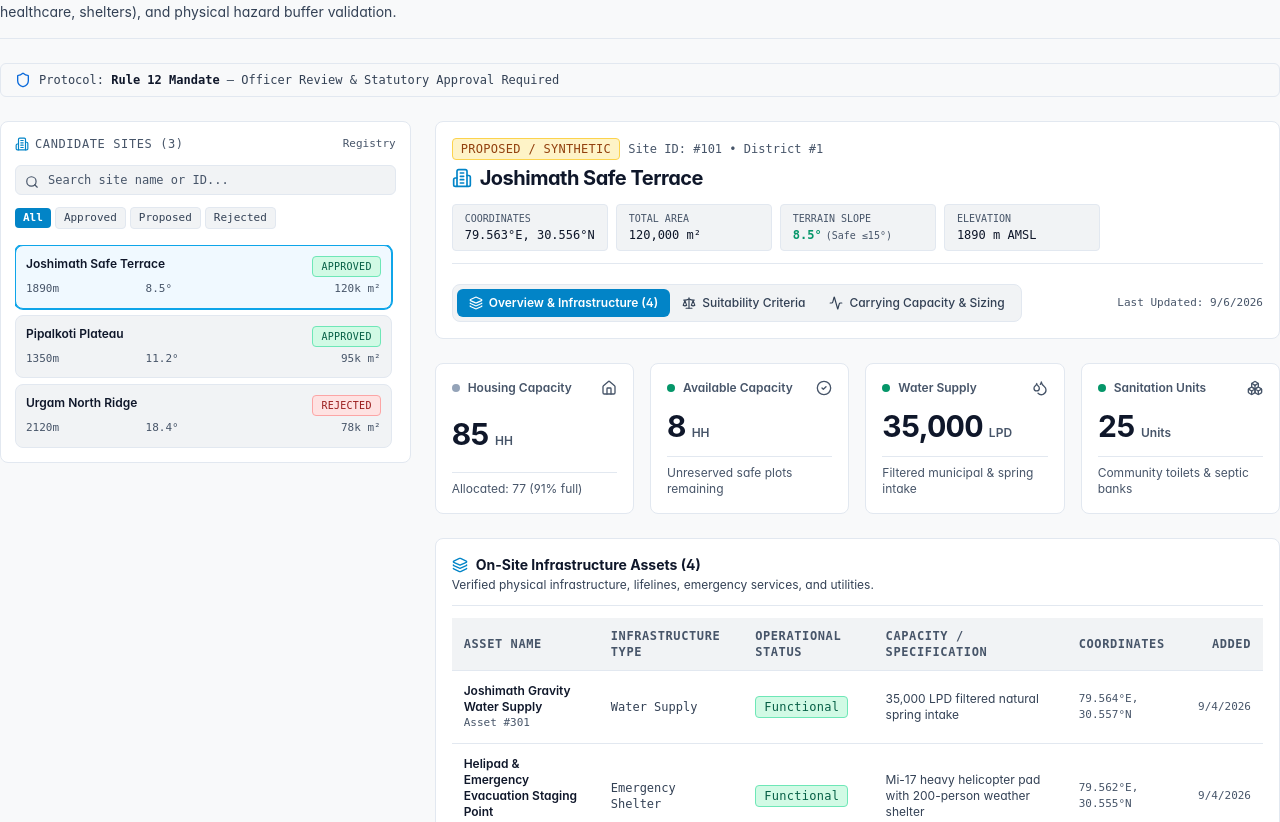
Test: Relocation Site Details & Infrastructure UI Suite (Chunk M6-03) › Multi-Criteria Suitability (M4-02) Tab › renders M4-02 classification, overall score, hard constraints, and 9 criteria decomposition
Step 1. Click the tab named "Suitability Criteria (M4-02)" → x=744, y=303, box [670, 289, 817, 317]
(page scrolled)
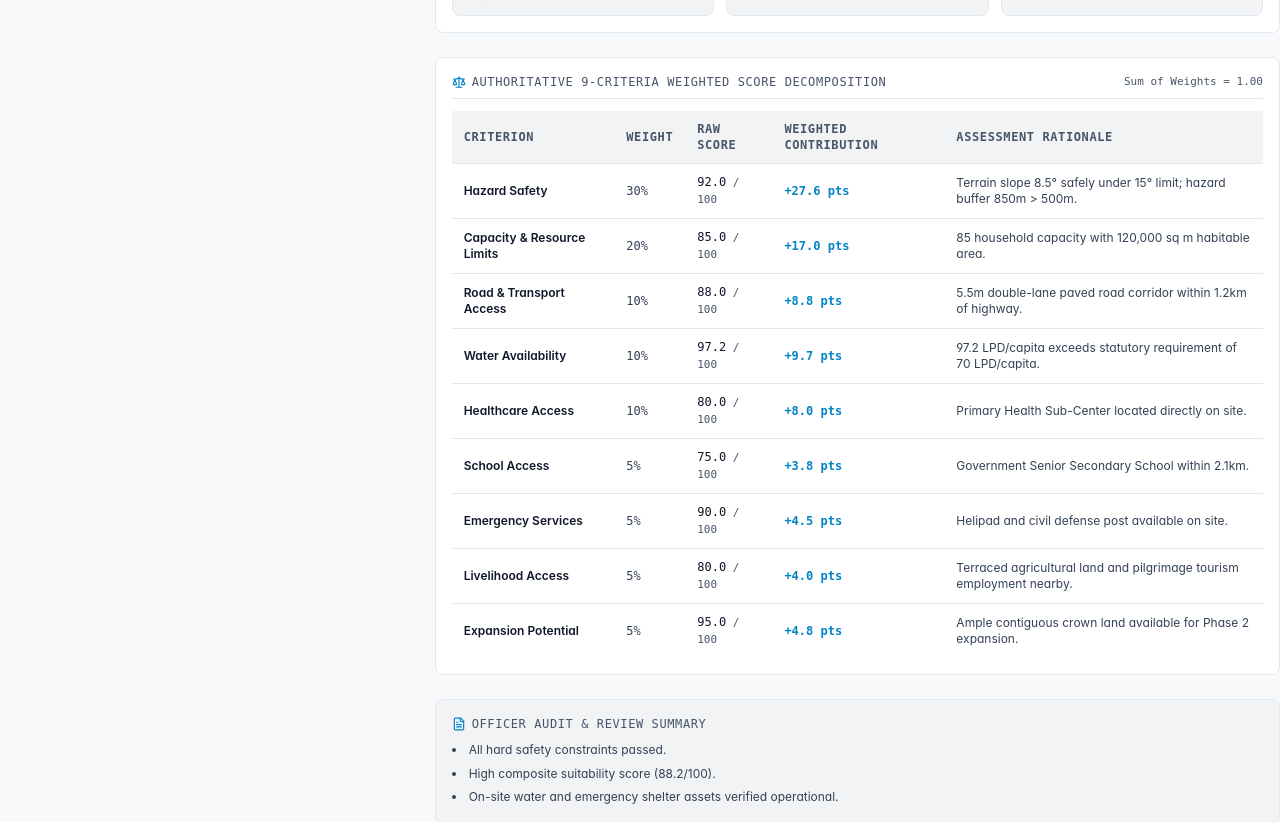
Check: the text "Hazard Safety" is shown, box [452, 164, 614, 218]
Check: the text "Capacity & Resource Limits" is shown, box [452, 218, 614, 274]
Check: the text "Road & Transport Access" is shown, box [452, 274, 614, 328]
